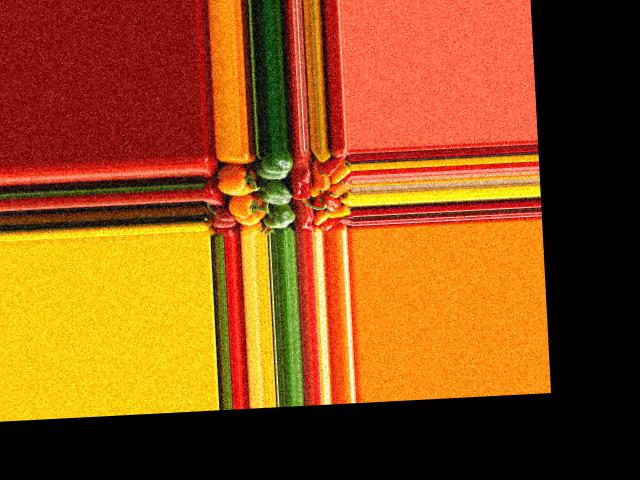bell_pepper: (319, 154, 347, 177)
